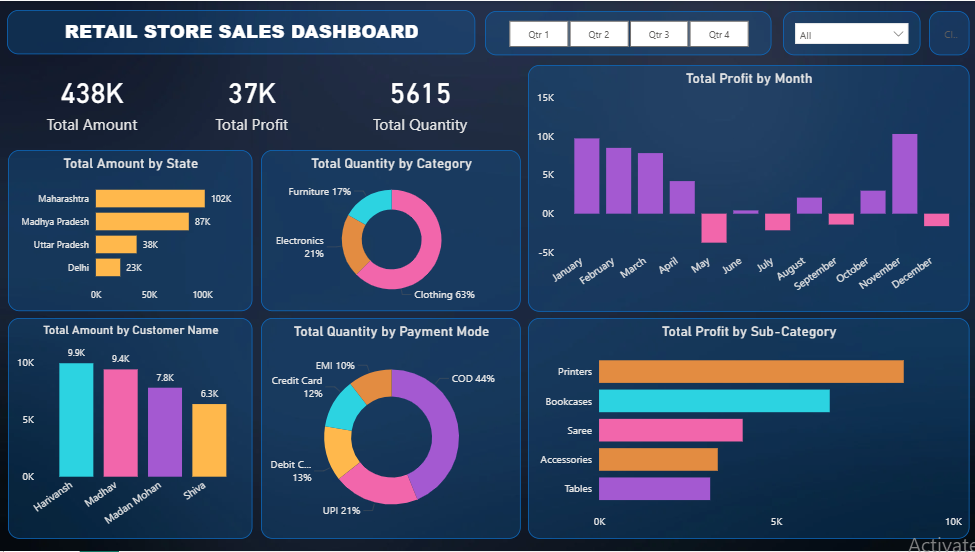

The page's visual inventory and layout, read from the dashboard file:
{"tool":"powerbi","page":{"name":"Page 1","canvas":[1280,720],"ordinal":0},"visuals":[{"type":"textbox","box":[12.1,12.1,612.7,57.9],"z":0},{"type":"card","fields":{"Values":["Sum(Details.Amount)"]},"box":[12.5,83.8,220,95],"z":1000},{"type":"card","fields":{"Values":["Sum(Details.Profit)"]},"box":[232.5,83.8,198.8,95],"z":2000},{"type":"card","fields":{"Values":["Sum(Details.Quantity)"]},"box":[431.2,83.8,243.8,95],"z":3000},{"type":"clusteredColumnChart","title":"Total Profit by Month","fields":{"Category":["Orders.Order Date.Variation.Date Hierarchy.Month"],"Y":["Sum(Details.Profit)"]},"box":[693.8,83.8,577.5,322.5],"z":4000},{"type":"barChart","title":"Total Profit by Sub-Category","fields":{"Category":["Details.Sub-Category"],"Y":["Sum(Details.Profit)"]},"box":[693.8,415,577.5,288.8],"z":5000},{"type":"donutChart","title":"Total Quantity by Category","fields":{"Category":["Details.Category"],"Y":["Sum(Details.Quantity)"]},"box":[343.8,195,340,211.2],"z":6000},{"type":"donutChart","title":"Total Quantity by Payment Mode","fields":{"Category":["Details.PaymentMode"],"Y":["Sum(Details.Quantity)"]},"box":[343.8,415,340,288.8],"z":7000},{"type":"clusteredColumnChart","title":"Total Amount by Customer Name","fields":{"Category":["Orders.CustomerName"],"Y":["Sum(Details.Amount)"]},"box":[12.5,415,320,288.8],"z":8000},{"type":"barChart","title":"Total Amount by State","fields":{"Category":["Orders.State"],"Y":["Sum(Details.Amount)"]},"box":[12.5,195,320,211.2],"z":9000},{"type":"slicer","fields":{"Values":["Orders.Order Date.Variation.Date Hierarchy.Quarter"]},"box":[637.5,12.5,375,57.5],"z":10000},{"type":"slicer","fields":{"Values":["Orders.State"]},"box":[1027.5,12.5,180,57.5],"z":11000},{"type":"actionButton","box":[1218.8,12.5,52.5,57.5],"z":12000}]}

Visuals, with their boxes in screenshot pixels (x1, y1, x2, y2), scaled from the page's 1280x720 canvas onto the 975x552 screenshot:
textbox: {"left": 9, "top": 9, "right": 476, "bottom": 54}
card - Sum(Details.Amount): {"left": 10, "top": 64, "right": 177, "bottom": 137}
card - Sum(Details.Profit): {"left": 177, "top": 64, "right": 329, "bottom": 137}
card - Sum(Details.Quantity): {"left": 328, "top": 64, "right": 514, "bottom": 137}
"Total Profit by Month" clusteredColumnChart: {"left": 528, "top": 64, "right": 968, "bottom": 311}
"Total Profit by Sub-Category" barChart: {"left": 528, "top": 318, "right": 968, "bottom": 540}
"Total Quantity by Category" donutChart: {"left": 262, "top": 150, "right": 521, "bottom": 311}
"Total Quantity by Payment Mode" donutChart: {"left": 262, "top": 318, "right": 521, "bottom": 540}
"Total Amount by Customer Name" clusteredColumnChart: {"left": 10, "top": 318, "right": 253, "bottom": 540}
"Total Amount by State" barChart: {"left": 10, "top": 150, "right": 253, "bottom": 311}
slicer - Orders.Order Date.Variation.Date Hierarchy.Quarter: {"left": 486, "top": 10, "right": 771, "bottom": 54}
slicer - Orders.State: {"left": 783, "top": 10, "right": 920, "bottom": 54}
actionButton: {"left": 928, "top": 10, "right": 968, "bottom": 54}
